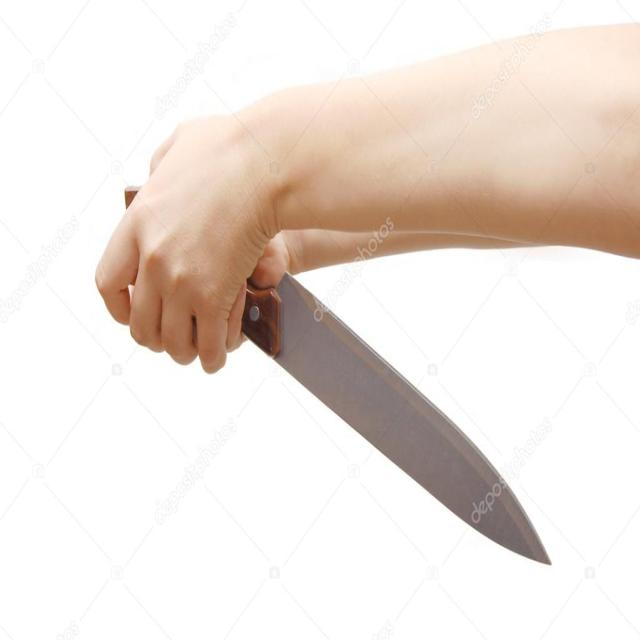knife: (256, 261, 555, 581)
